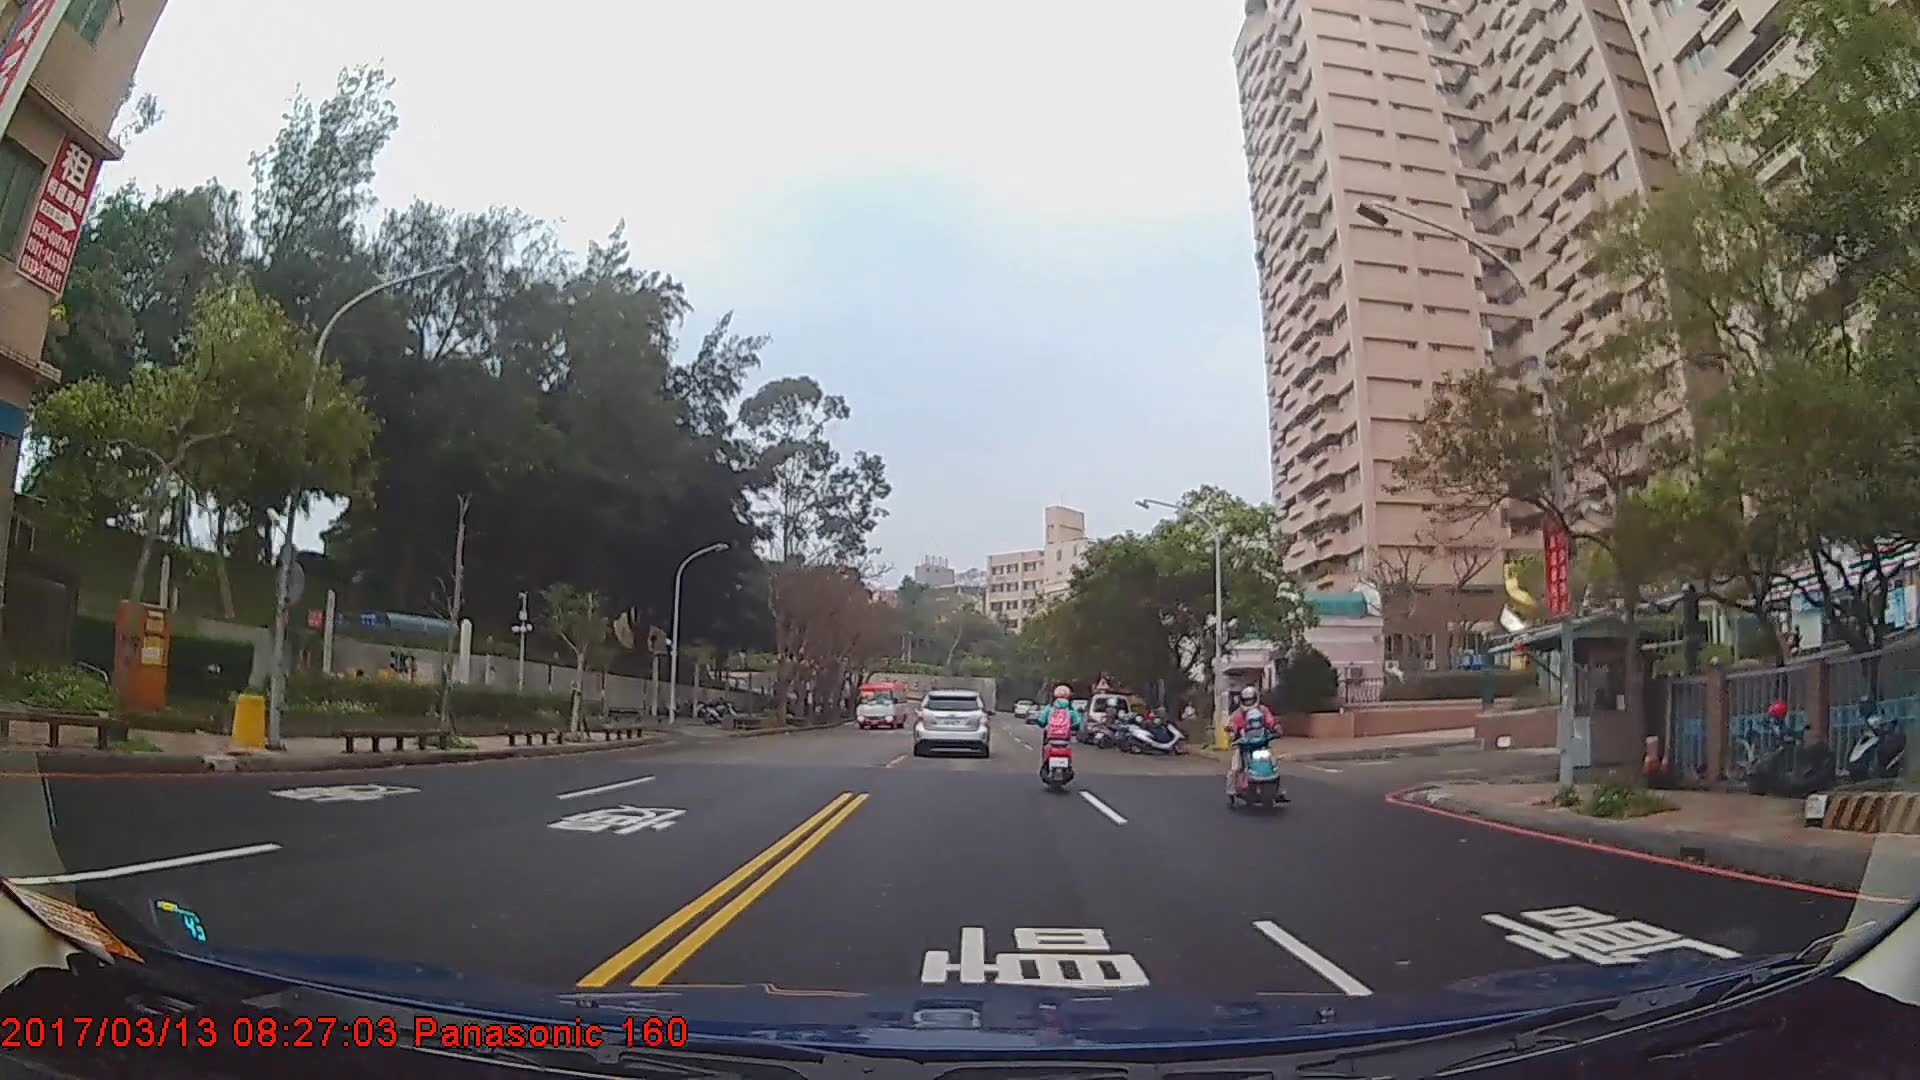rider: (1225, 688, 1285, 818), (1036, 677, 1079, 799), (1093, 696, 1130, 749)
vehicle: (911, 685, 989, 758), (1079, 691, 1131, 743), (856, 682, 906, 728)
